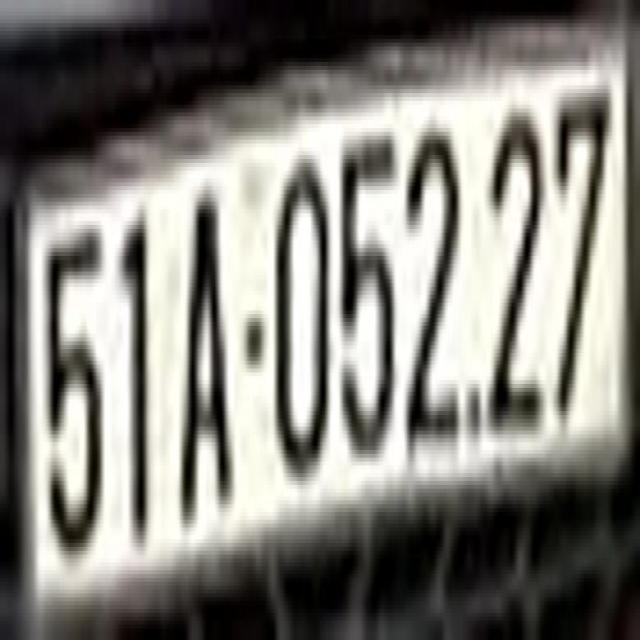0: (275, 159, 328, 489)
1: (116, 217, 150, 547)
2: (482, 97, 544, 438), (404, 120, 463, 454)
5: (336, 136, 396, 462), (47, 225, 103, 566)
7: (552, 86, 613, 438)
A: (179, 178, 230, 512)
